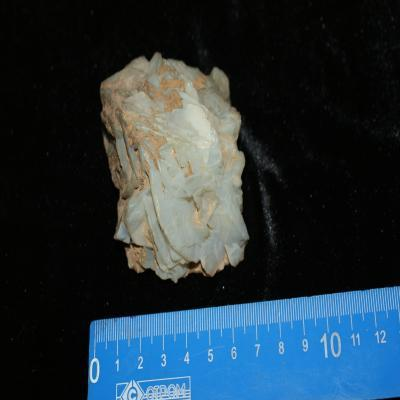mineralogy: (99, 53, 251, 284)
